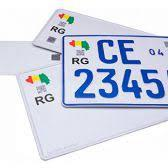2: (73, 67, 96, 98)
3: (96, 67, 119, 98)
4: (122, 68, 143, 100)
5: (141, 67, 165, 99)
C: (97, 38, 117, 64)
E: (117, 39, 140, 65)
